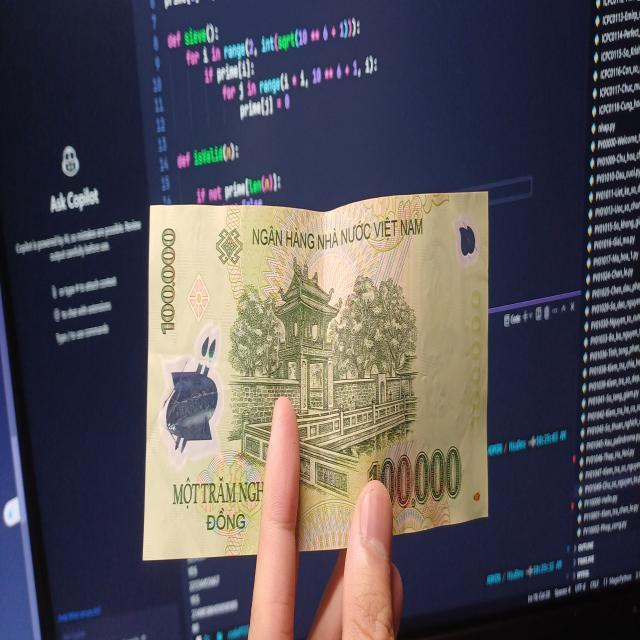100 000 VND: (140, 188, 491, 563)
